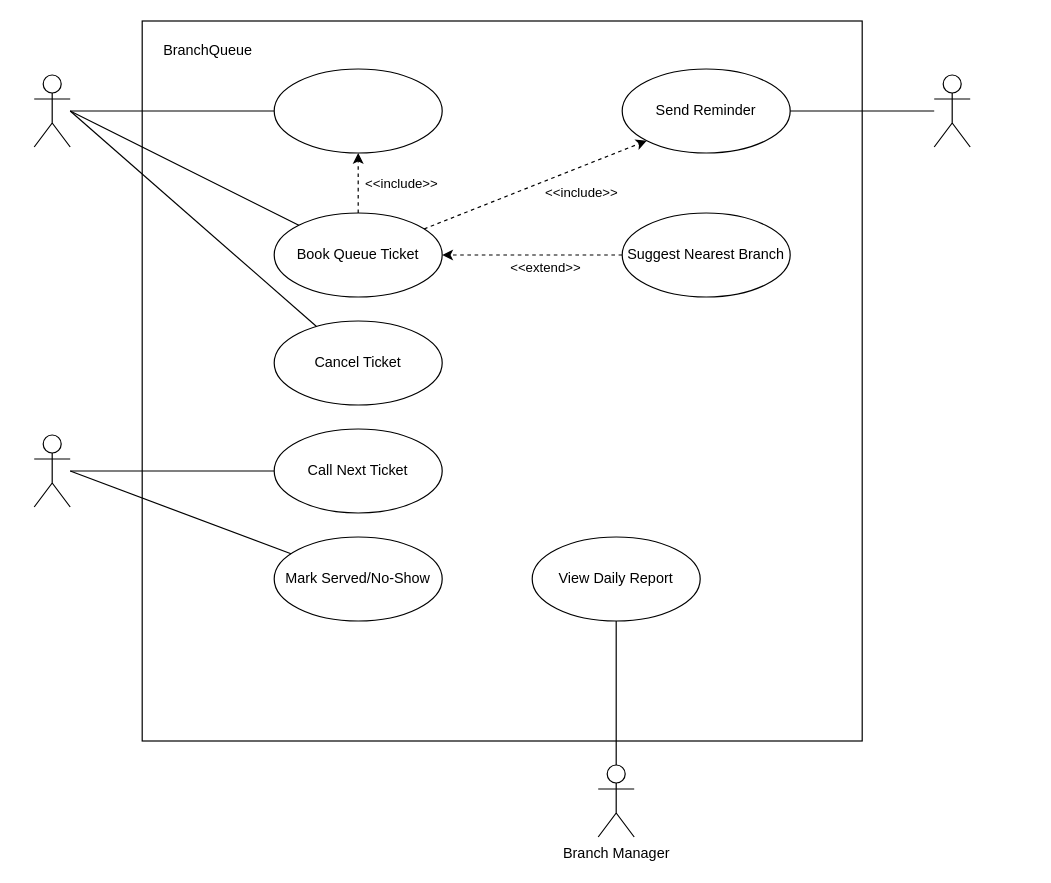
Image size: 1051x883. Some labels were removed from this diagram. The centre of each missing label's shape, as x and y in pixels:
"<<system>> Notification Service" belongs at point (951, 110).
"Customer" belongs at point (51, 110).
"Log In" belongs at point (357, 110).
"Teller" belongs at point (51, 470).
